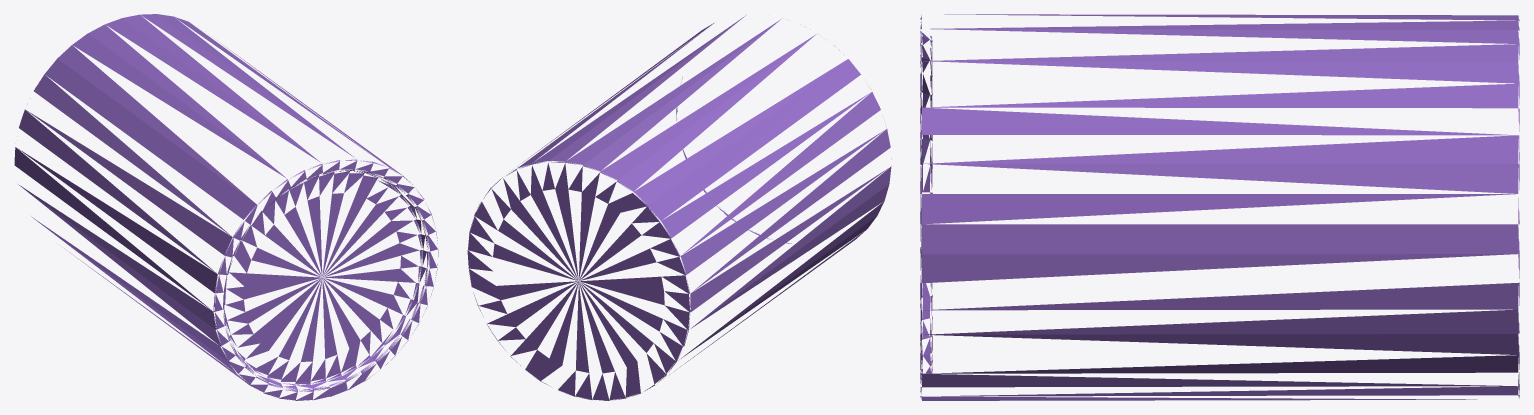
The model's file is food_processed_cannedFood_j01.glb.
3 renders of one model, left to right at view 1: azimuth 30°, elevation 25°; view 2: azimuth 150°, elevation 25°; view 3: azimuth 270°, elevation 25°, orthographic. The views are drawn at different scales.
Visible parts, largest first — view 1: geometry_0; view 2: geometry_0; view 3: geometry_0.
Boxes of the visible parts, x1,y1,x2,y2 form: geometry_0: (14,14,438,400); geometry_0: (467,15,891,400); geometry_0: (920,14,1519,400).
Bounding box in the file's own units: 0.3105 × 0.3105 × 0.48.
